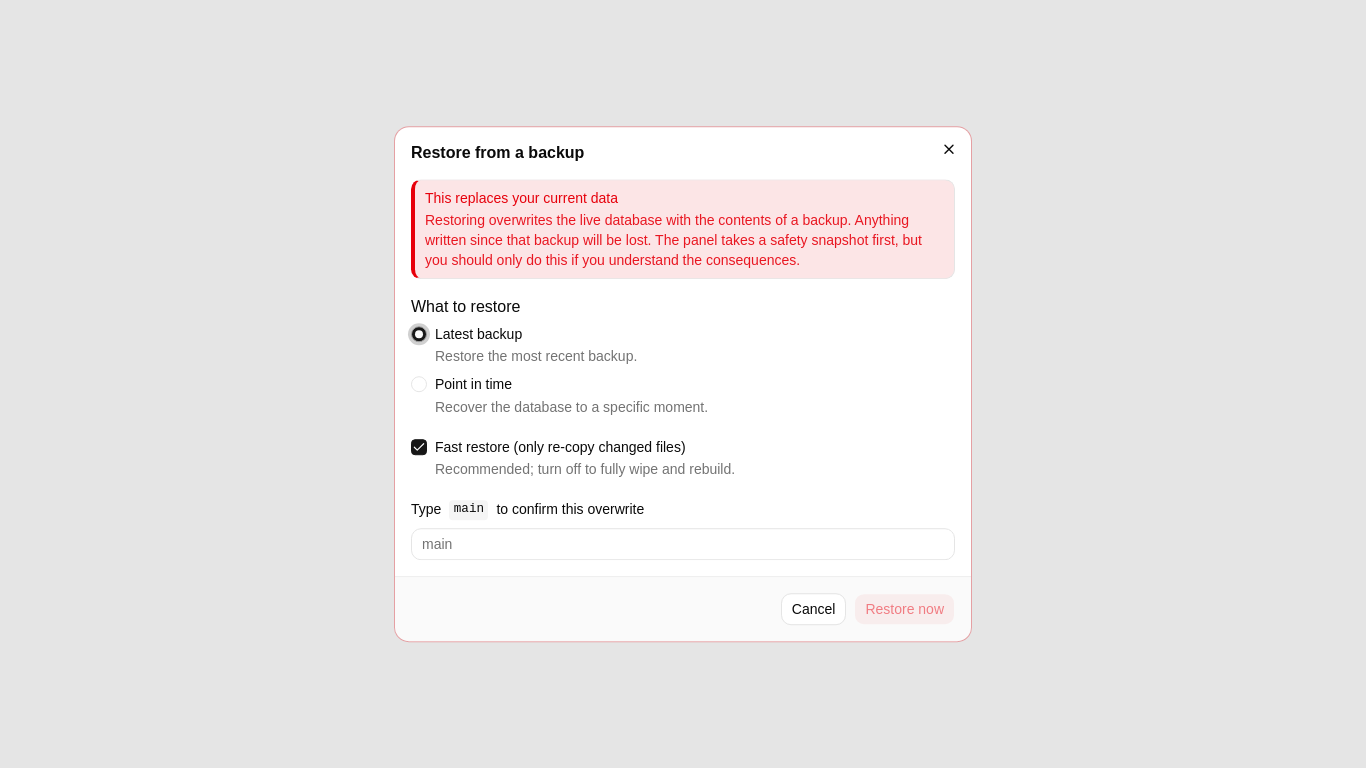
Test: RestoreModal › reveals the point-in-time picker only when that mode is chosen
Expected: the field labelled "recover to" is not shown
Click the radio button named "point in time" next to "Point in time" at coordinates (419, 384), box [411,376,427,392]
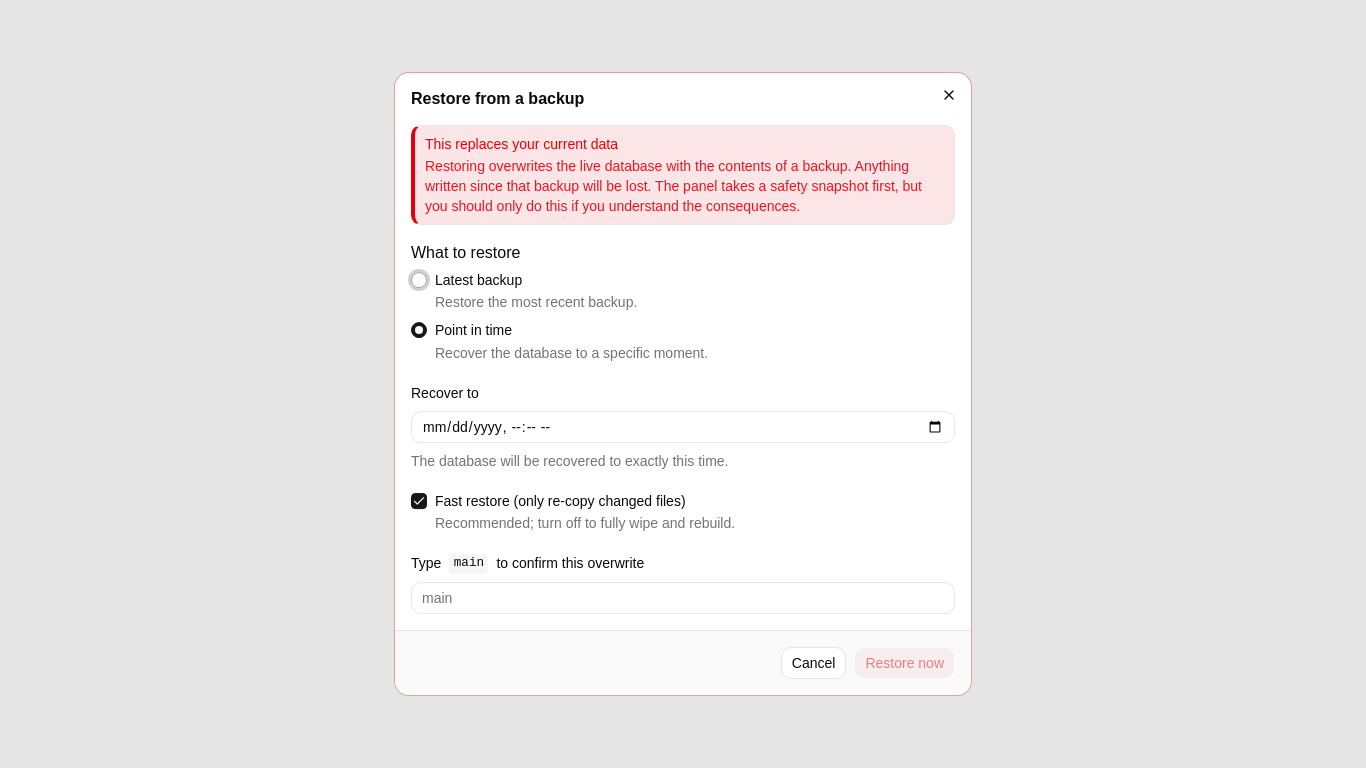
Expected: the field labelled "Recover to" is shown, [411,411,955,443]
